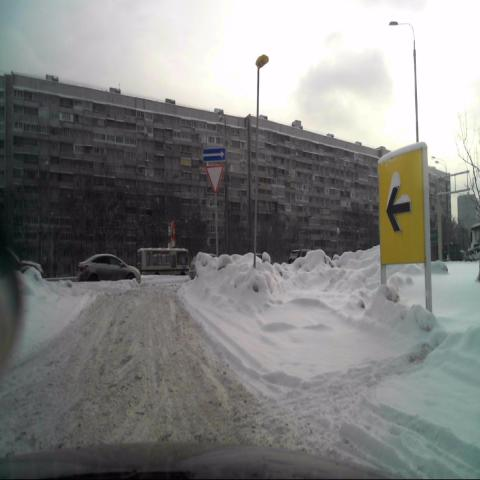5_7_1: (202, 147, 224, 163)
